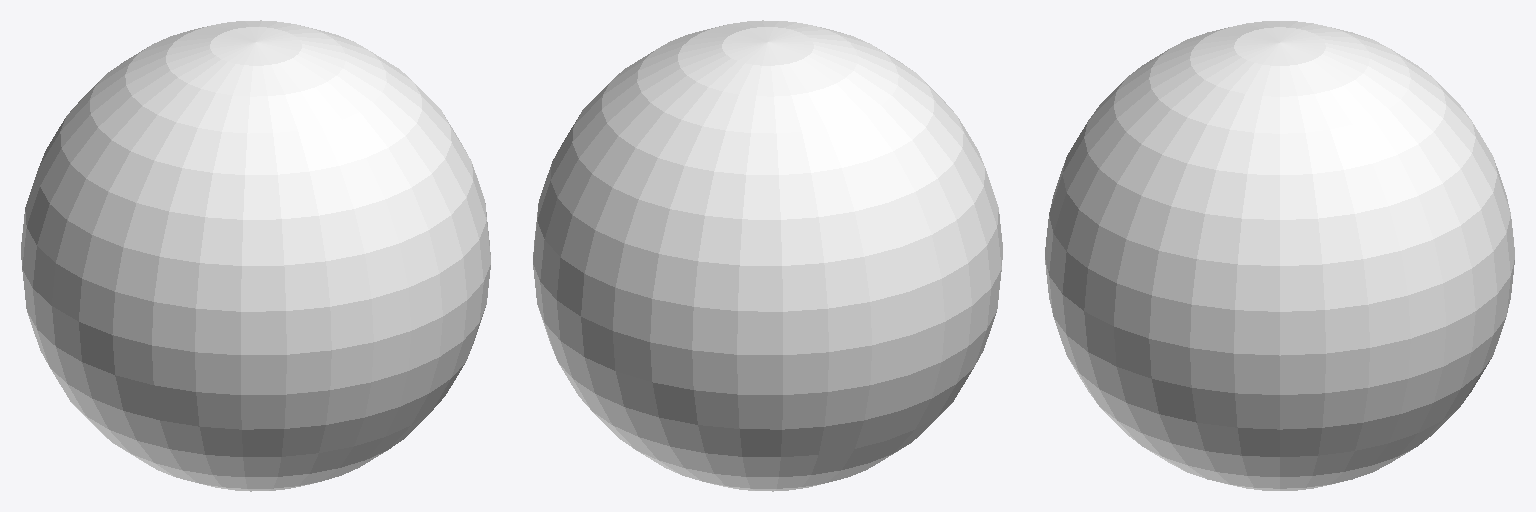
robot.urdf — panda:
<?xml version="1.0" ?>
<!-- =================================================================================== -->
<!-- |    This document was autogenerated by xacro from panda_arm_hand.urdf.xacro      | -->
<!-- |    EDITING THIS FILE BY HAND IS NOT RECOMMENDED                                 | -->
<!-- =================================================================================== -->
<robot name="panda" xmlns:xacro="http://www.ros.org/wiki/xacro">
  <link name="panda_link0">
  	<inertial>
      <origin rpy="0 0 0" xyz="0 0 0.05"/>
       <mass value="2.9"/>
       <inertia ixx="0.1" ixy="0" ixz="0" iyy="0.1" iyz="0" izz="0.1"/>
    </inertial>
    <visual>
      <geometry>
        <mesh filename="package://meshes/collision/link0.obj"/>
      </geometry>
      <material name="panda_white">
    		<color rgba="1. 1. 1. 1."/>
  		</material>
    </visual>
    <collision>
      <geometry>
        <mesh filename="package://meshes/collision/link0.obj"/>
      </geometry>
      <material name="panda_white"/>
    </collision>
  </link>
  <link name="panda_link1">
  	<inertial>
      <origin rpy="0 0 0" xyz="0 -0.04 -0.05"/>
       <mass value="2.7"/>
       <inertia ixx="0.1" ixy="0" ixz="0" iyy="0.1" iyz="0" izz="0.1"/>
    </inertial>
    <visual>
      <geometry>
        <mesh filename="package://meshes/visual/link1.obj"/>
      </geometry>
      <material name="panda_white"/>
    </visual>
    <collision>
      <geometry>
        <mesh filename="package://meshes/collision/link1.obj"/>
      </geometry>
      <material name="panda_white"/>
    </collision>
  </link>
  <joint name="panda_joint1" type="revolute">
    <safety_controller k_position="100.0" k_velocity="40.0" soft_lower_limit="-2.8973" soft_upper_limit="2.8973"/>
    <origin rpy="0 0 0" xyz="0 0 0.333"/>
    <parent link="panda_link0"/>
    <child link="panda_link1"/>
    <axis xyz="0 0 1"/>
    <limit effort="87" lower="-2.9671" upper="2.9671" velocity="2.1750"/>
  </joint>
  <link name="panda_link2">
  	<inertial>
      <origin rpy="0 0 0" xyz="0 -0.04 0.06"/>
       <mass value="2.73"/>
       <inertia ixx="0.1" ixy="0" ixz="0" iyy="0.1" iyz="0" izz="0.1"/>
    </inertial>
    <visual>
      <geometry>
        <mesh filename="package://meshes/visual/link2.obj"/>
      </geometry>
      <material name="panda_white"/>
    </visual>
    <collision>
      <geometry>
        <mesh filename="package://meshes/collision/link2.obj"/>
      </geometry>
      <material name="panda_white"/>
    </collision>
  </link>
  <joint name="panda_joint2" type="revolute">
    <safety_controller k_position="100.0" k_velocity="40.0" soft_lower_limit="-1.7628" soft_upper_limit="1.7628"/>
    <origin rpy="-1.57079632679 0 0" xyz="0 0 0"/>
    <parent link="panda_link1"/>
    <child link="panda_link2"/>
    <axis xyz="0 0 1"/>
    <limit effort="87" lower="-1.8326" upper="1.8326" velocity="2.1750"/>
  </joint>
  <link name="panda_link3">
	  <inertial>
      <origin rpy="0 0 0" xyz="0.01 0.01 -0.05"/>
       <mass value="2.04"/>
       <inertia ixx="0.1" ixy="0" ixz="0" iyy="0.1" iyz="0" izz="0.1"/>
    </inertial>
    <visual>
      <geometry>
        <mesh filename="package://meshes/visual/link3.obj"/>
      </geometry>
      <material name="panda_red">
    		<color rgba="1. 1. 1. 1."/>
  		</material>
    </visual>
    <collision>
      <geometry>
        <mesh filename="package://meshes/collision/link3.obj"/>
      </geometry>
    </collision>
  </link>
  <joint name="panda_joint3" type="revolute">
    <safety_controller k_position="100.0" k_velocity="40.0" soft_lower_limit="-2.8973" soft_upper_limit="2.8973"/>
    <origin rpy="1.57079632679 0 0" xyz="0 -0.316 0"/>
    <parent link="panda_link2"/>
    <child link="panda_link3"/>
    <axis xyz="0 0 1"/>
    <limit effort="87" lower="-2.9671" upper="2.9671" velocity="2.1750"/>
  </joint>
  <link name="panda_link4">
  	<inertial>
      <origin rpy="0 0 0" xyz="-0.03 0.03 0.02"/>
       <mass value="2.08"/>
       <inertia ixx="0.1" ixy="0" ixz="0" iyy="0.1" iyz="0" izz="0.1"/>
    </inertial>
    <visual>
      <geometry>
        <mesh filename="package://meshes/visual/link4.obj"/>
      </geometry>
      <material name="panda_white"/>
    </visual>
    <collision>
      <geometry>
        <mesh filename="package://meshes/collision/link4.obj"/>
      </geometry>
      <material name="panda_white"/>
    </collision>
  </link>
  <joint name="panda_joint4" type="revolute">
    <safety_controller k_position="100.0" k_velocity="40.0" soft_lower_limit="-3.0718" soft_upper_limit="-0.0698"/>
    <origin rpy="1.57079632679 0 0" xyz="0.0825 0 0"/>
    <parent link="panda_link3"/>
    <child link="panda_link4"/>
    <axis xyz="0 0 1"/>
    <limit effort="87" lower="-3.1416" upper="0.0" velocity="2.1750"/>
  </joint>
  <link name="panda_link5">
  	<inertial>
      <origin rpy="0 0 0" xyz="0 0.04 -0.12"/>
       <mass value="3"/>
       <inertia ixx="0.1" ixy="0" ixz="0" iyy="0.1" iyz="0" izz="0.1"/>
    </inertial>
    <visual>
      <geometry>
        <mesh filename="package://meshes/visual/link5.obj"/>
      </geometry>
      <material name="panda_white"/>
    </visual>
    <collision>
      <geometry>
        <mesh filename="package://meshes/collision/link5.obj"/>
      </geometry>
      <material name="panda_white"/>
    </collision>
  </link>
  <joint name="panda_joint5" type="revolute">
    <safety_controller k_position="100.0" k_velocity="40.0" soft_lower_limit="-2.8973" soft_upper_limit="2.8973"/>
    <origin rpy="-1.57079632679 0 0" xyz="-0.0825 0.384 0"/>
    <parent link="panda_link4"/>
    <child link="panda_link5"/>
    <axis xyz="0 0 1"/>
    <limit effort="12" lower="-2.9671" upper="2.9671" velocity="2.6100"/>
  </joint>
  <link name="panda_link6">
  	<inertial>
      <origin rpy="0 0 0" xyz="0.04 0 0"/>
       <mass value="1.3"/>
       <inertia ixx="0.1" ixy="0" ixz="0" iyy="0.1" iyz="0" izz="0.1"/>
    </inertial>
    <visual>
      <geometry>
        <mesh filename="package://meshes/visual/link6.obj"/>
      </geometry>
      <material name="panda_white"/>
    </visual>
    <collision>
      <geometry>
        <mesh filename="package://meshes/collision/link6.obj"/>
      </geometry>
      <material name="panda_white"/>
    </collision>
  </link>
  <joint name="panda_joint6" type="revolute">
    <safety_controller k_position="100.0" k_velocity="40.0" soft_lower_limit="-0.0175" soft_upper_limit="3.7525"/>
    <origin rpy="1.57079632679 0 0" xyz="0 0 0"/>
    <parent link="panda_link5"/>
    <child link="panda_link6"/>
    <axis xyz="0 0 1"/>
    <limit effort="12" lower="-0.0873" upper="3.8223" velocity="2.6100"/>
  </joint>
  <link name="panda_link7">
  	<inertial>
      <origin rpy="0 0 0" xyz="0 0 0.08"/>
       <mass value=".2"/>
       <inertia ixx="0.1" ixy="0" ixz="0" iyy="0.1" iyz="0" izz="0.1"/>
    </inertial>
    <visual>
      <geometry>
        <mesh filename="package://meshes/collision/link7.obj"/>
      </geometry>
      <material name="panda_white"/>
    </visual>
    <collision>
      <geometry>
        <mesh filename="package://meshes/collision/link7.obj"/>
      </geometry>
      <material name="panda_white"/>
    </collision>
  </link>
  <joint name="panda_joint7" type="revolute">
    <safety_controller k_position="100.0" k_velocity="40.0" soft_lower_limit="-2.8973" soft_upper_limit="2.8973"/>
    <origin rpy="1.57079632679 0 0" xyz="0.088 0 0"/>
    <parent link="panda_link6"/>
    <child link="panda_link7"/>
    <axis xyz="0 0 1"/>
    <limit effort="12" lower="-2.9671" upper="2.9671" velocity="2.6100"/>
  </joint>
  <link name="panda_link8">
  	 <inertial>
      <origin rpy="0 0 0" xyz="0 0 0"/>
       <mass value="0.0"/>
       <inertia ixx="0.1" ixy="0" ixz="0" iyy="0.1" iyz="0" izz="0.1"/>
    </inertial>
  </link>
  <joint name="panda_joint8" type="fixed">
    <origin rpy="0 0 0" xyz="0 0 0.107"/>
    <parent link="panda_link7"/>
    <child link="panda_link8"/>
    <axis xyz="0 0 0"/>
  </joint>


  <!-- Dummy EE for planning -->
  <link name="dummy_ee">
    <inertial>
      <!-- <origin xyz="0 0 -0.785" rpy="0.08 0 0.11"/> -->
      <origin rpy="0 0 0" xyz="0 0 0"/>
      <mass value="0.0"/>
      <inertia
        ixx="1.0" ixy="0.0" ixz="0.0"
        iyy="1.0" iyz="0.0" 
        izz="1.0"/>
    </inertial>
    <visual>
      <geometry>
        <sphere radius="0.01"/>
      </geometry>
      <!-- <origin rpy="0 0 -0.785" xyz="0.08 0 0.11"/> -->
      <origin rpy="0 0 0" xyz="0 0 0"/>
      <material name="panda_white" />
    </visual>
  </link>
  <joint name="dummy_ee_joint" type="fixed">
    <parent link="panda_link8"/>
    <child link="dummy_ee"/>
    <origin xyz="0.0 0 0.13" rpy="0 0 0"/>
  </joint>



<!--   <link name="end_effector">
    <visual>
      <geometry>
        <sphere radius="0.05"/>
      </geometry>
      <origin rpy="1.57 0 0" xyz="0 0 0.03"/>
      <material name="red"/>
    </visual>
    <collision>
      <geometry>
        <sphere radius="0.05"/>
      </geometry>
      <origin rpy="0 0 0" xyz="0 0 0.03"/>
    </collision>
    <inertial>
      <origin rpy="0 0 0" xyz="0 0 0.03"/>
      <mass value="0.5"/>
      <inertia ixx="0.1" ixy="0" ixz="0" iyy="0.1" iyz="0" izz="0.1"/>   
    </inertial>
  </link>
  <joint name="panda_joint9" type="fixed">
    <origin rpy="0 0 0" xyz="0 0 0"/>
    <parent link="panda_link8"/>
    <child link="end_effector"/>
    <axis xyz="0 0 0"/>
  </joint> -->


  <!-- Base Housing -->
<!--   <link name="gripper_housing">
    <inertial> -->
      <!-- <origin xyz="0 0 -0.785" rpy="0.08 0 0.11"/> -->
     <!--  <origin rpy="0 0 0" xyz="0 0 0"/>
      <mass value="0.8"/>
      <inertia
        ixx="1.0" ixy="0.0" ixz="0.0"
        iyy="1.0" iyz="0.0" 
        izz="1.0"/>
    </inertial>
    <visual>
      <geometry>
        <mesh filename="package://meshes/visual/HOUSING.stl" />
      </geometry>
      --> <!-- <origin rpy="0 0 -0.785" xyz="0.08 0 0.11"/> -->
<!--       <origin rpy="0 0 0" xyz="0 0 0"/>
      <material name="panda_white" />
    </visual>
  </link>
  <joint name="gripper_arm_joint" type="fixed">
    <parent link="panda_link8"/>
    <child link="gripper_housing"/>
    <origin xyz="0.06 0 0.08" rpy="-2.35619 -1.5708 -0.785398"/>
  </joint> -->


  <!-- Base Housing -->
  <link name="gripper_housing">
    <inertial>
      <!-- <origin xyz="0 0 -0.785" rpy="0.08 0 0.11"/> -->
      <origin rpy="0 0 0" xyz="0 0 0"/>
      <mass value="0.8"/>
      <inertia
        ixx="1.0" ixy="0.0" ixz="0.0"
        iyy="1.0" iyz="0.0" 
        izz="1.0"/>
    </inertial>
    <visual>
      <geometry>
        <mesh filename="package://meshes/visual/HOUSING.stl" />
      </geometry>
      <!-- <origin rpy="0 0 -0.785" xyz="0.08 0 0.11"/> -->
      <origin rpy="0 0 0" xyz="0 0 0"/>
      <material name="panda_white" />
    </visual>
    <collision>
      <geometry>
        <mesh filename="package://meshes/visual/HOUSING.stl"/>
      </geometry>
      <material name="panda_white"/>
    </collision>
  </link>
  <joint name="gripper_arm_joint" type="fixed">
    <parent link="panda_link8"/>
    <child link="gripper_housing"/>
    <origin xyz="0.0 0 0.07" rpy="0 0 -0.785398"/>
  </joint>

    <!-- Cutting Finger -->
  <link name="cutting_finger">
    <inertial>
      <origin xyz="0.0 0.0 0.0" rpy="0.0 0.0 0.0"/>
      <mass value="0.008"/>
      <inertia 
        ixx="1.0" ixy="0.0" ixz="0.0" 
        iyy="1.0" iyz="0.0" 
        izz="1.0"/>
    </inertial>
    <visual>
      <origin xyz="0.0 0.0 0.0" rpy="0.0 0.0 0.0"/>
      <geometry>
        <mesh filename="package://meshes/visual/CUTTING_FINGER.stl" />
      </geometry>
      <material name="panda_white" />
    </visual>
    <collision>
      <geometry>
        <mesh filename="package://meshes/visual/CUTTING_FINGER.stl"/>
      </geometry>
      <material name="panda_white"/>
    </collision>
  </link>

  <joint name="cutting_finger_joint" type="fixed">
    <parent link="gripper_housing"/>
    <child link="cutting_finger"/>
    <origin xyz="-0.02 -0.035 0.01" rpy="0 0.872665 1.0472"/>
<!--     <axis xyz="0 1 0"/>
    <limit lower="-0.87" upper="0" effort="100" velocity="1"/> -->
  </joint>

  <!-- Inner Finger 1 -->
  <link name="inner_finger_1">
    <inertial>
      <origin xyz="0.0 0.0 0.0" rpy="0.0 0.0 0.0"/>
      <mass value="0.005"/>
      <inertia 
        ixx="1.0" ixy="0.0" ixz="0.0" 
        iyy="1.0" iyz="0.0" 
        izz="1.0"/>
    </inertial>
    <visual>
      <origin xyz="0.0 0.0 0.0" rpy="0.0 0.0 0.0"/>
      <geometry>
        <mesh filename="package://meshes/visual/INNER_FINGER.stl" />
      </geometry>
      <material name="panda_white" />
    </visual>
    <collision>
      <geometry>
        <mesh filename="package://meshes/visual/INNER_FINGER.stl"/>
      </geometry>
      <material name="panda_white"/>
    </collision>
  </link>

  <joint name="inner_finger_1_joint" type="fixed">
    <parent link="gripper_housing"/>
    <child link="inner_finger_1"/>
    <origin xyz="0.04 0 0.01" rpy="0 0.872665 3.14159"/>
<!--     <axis xyz="0 1 0"/>
    <limit lower="-0.87" upper="0" effort="100" velocity="1"/>
    <mimic joint="cutting_finger_joint" multiplier="1" offset="0" /> -->
  </joint>

  <!-- Inner Finger 2 -->
  <link name="inner_finger_2">
    <inertial>
      <origin xyz="0.0 0.0 0.0" rpy="0.0 0.0 0.0"/>
      <mass value="0.005"/>
      <inertia 
        ixx="1.0" ixy="0.0" ixz="0.0" 
        iyy="1.0" iyz="0.0" 
        izz="1.0"/>
    </inertial>
    <visual>
      <origin xyz="0.0 0.0 0.0" rpy="0.0 0.0 0.0"/>
      <geometry>
        <mesh filename="package://meshes/visual/MIRRORINNER_FINGER.stl" />
      </geometry>
      <material name="panda_white" />
    </visual>
    <collision>
      <geometry>
        <mesh filename="package://meshes/visual/MIRRORINNER_FINGER.stl"/>
      </geometry>
      <material name="panda_white"/>
    </collision>
  </link>
  
  <joint name="inner_finger_2_joint" type="fixed">
    <parent link="gripper_housing"/>
    <child link="inner_finger_2"/>
    <origin xyz="-0.02 0.035 0.01" rpy="0 0.872665 -1.0472"/>
<!--     <axis xyz="0 1 0"/>
    <limit lower="-0.87" upper="0" effort="100" velocity="1"/>
    <mimic joint="cutting_finger_joint" multiplier="1" offset="0" /> -->
  </joint>

  <!-- Outer Finger 1 -->
  <link name="outer_finger_1">
    <inertial>
      <origin xyz="0.0 0.0 0.0" rpy="0.0 0.0 0.0"/>
      <mass value="0.006"/>
      <inertia 
        ixx="1.0" ixy="0.0" ixz="0.0" 
        iyy="1.0" iyz="0.0" 
        izz="1.0"/>
    </inertial>
    <visual>
      <origin xyz="0.0 0.0 0.0" rpy="0.0 0.0 0.0"/>
      <geometry>
        <mesh filename="package://meshes/visual/OUTER_FINGER.stl" />
      </geometry>
      <material name="panda_white" />
    </visual>
    <collision>
      <geometry>
        <mesh filename="package://meshes/visual/OUTER_FINGER.stl"/>
      </geometry>
      <material name="panda_white"/>
    </collision>
  </link>

  <joint name="outer_finger_1_joint" type="fixed">
    <parent link="gripper_housing"/>
    <child link="outer_finger_1"/>
    <origin xyz="-0.04 0 0.01" rpy="0 0.785398 0"/>
<!--     <axis xyz="0 1 0"/>
    <limit lower="-0.79" upper="0" effort="100" velocity="1"/>
    <mimic joint="cutting_finger_joint" multiplier="1" offset="0" />    -->         
  </joint>

  <!-- Outer Finger 2 -->
  <link name="outer_finger_2">
    <inertial>
      <origin xyz="0.0 0.0 0.0" rpy="0.0 0.0 0.0"/>
      <mass value="0.006"/>
      <inertia 
        ixx="1.0" ixy="0.0" ixz="0.0" 
        iyy="1.0" iyz="0.0" 
        izz="1.0"/>
    </inertial>
    <visual>
      <origin xyz="0.0 0.0 0.0" rpy="0.0 0.0 0.0"/>
      <geometry>
        <mesh filename="package://meshes/visual/OUTER_FINGER.stl" />
      </geometry> 
      <material name="panda_white" />
    </visual>
    <collision>
      <geometry>
        <mesh filename="package://meshes/visual/OUTER_FINGER.stl"/>
      </geometry>
      <material name="panda_white"/>
    </collision>
  </link>

  <joint name="outer_finger_2_joint" type="fixed">
    <parent link="gripper_housing"/>
    <child link="outer_finger_2"/>
    <origin xyz="0.02 0.035 0.01" rpy="0 0.785398 -2.0944"/>
<!--     <axis xyz="0 1 0"/>
    <limit lower="-0.79" upper="0" effort="100" velocity="1"/>
    <mimic joint="cutting_finger_joint" multiplier="1" offset="0" /> -->
  </joint>

  <!-- Outer Finger 3 -->
  <link name="outer_finger_3">
    <inertial>
      <origin xyz="0.0 0.0 0.0" rpy="0.0 0.0 0.0"/>
      <mass value="0.006"/>
      <inertia 
        ixx="1.0" ixy="0.0" ixz="0.0" 
        iyy="1.0" iyz="0.0" 
        izz="1.0"/>
    </inertial>
    <visual>
      <origin xyz="0.0 0.0 0.0" rpy="0.0 0.0 0.0"/>
      <geometry>
        <mesh filename="package://meshes/visual/OUTER_FINGER.stl" />
      </geometry>
      <material name="panda_white" />
    </visual>
    <collision>
      <geometry>
        <mesh filename="package://meshes/visual/OUTER_FINGER.stl"/>
      </geometry>
      <material name="panda_white"/>
    </collision>
  </link>

  <joint name="outer_finger_3_joint" type="fixed">
    <parent link="gripper_housing"/>
    <child link="outer_finger_3"/>
    <origin xyz="0.02 -0.035 0.01" rpy="0 0.785398 2.0944"/>
<!--     <axis xyz="0 1 0"/>
    <limit lower="-0.79" upper="0" effort="100" velocity="1"/>
    <mimic joint="cutting_finger_joint" multiplier="1" offset="0" /> -->
  </joint>

<!-- Cutting Blade Right -->
  <link name="cutter_right">
    <inertial>
      <origin xyz="0.0 0.0 0.0" rpy="0.0 0.0 0.0"/>
      <mass value="0.006"/>
      <inertia 
        ixx="1.0" ixy="0.0" ixz="0.0" 
        iyy="1.0" iyz="0.0" 
        izz="1.0"/>
    </inertial>
    <visual>
      <origin xyz="0.0 0.0 0.0" rpy="0.0 0.0 0.0"/>
      <geometry>
        <mesh filename="package://meshes/visual/CUTTER_R.stl" />
      </geometry>
      <material name="panda_white" />
    </visual>
    <collision>
      <geometry>
        <mesh filename="package://meshes/visual/CUTTER_R.stl"/>
      </geometry>
      <material name="panda_white"/>
    </collision>
  </link>

  <joint name="right_cutter_joint" type="fixed">
    <parent link="cutting_finger"/>
    <child link="cutter_right"/>
    <origin xyz="0.004 -0.006 0.035" rpy="0 1.8326 0"/>
<!--     <axis xyz="0 0 1"/>
    <limit lower="-2.09" upper="0" effort="1000" velocity="0.7"/>
    <dynamics damping="0.02" friction="0.0" /> -->
  </joint>

<!-- Cutting Blade Left -->
<link name="cutter_left">
    <inertial>
      <origin xyz="0.0 0.0 0.0" rpy="0.0 0.0 0.0"/>
      <mass value="0.007"/>
      <inertia 
        ixx="1.0" ixy="0.0" ixz="0.0" 
        iyy="1.0" iyz="0.0" 
        izz="1.0"/>
    </inertial>
    <visual>
      <origin xyz="0.0 0.0 0.0" rpy="0.0 0.0 0.0"/>
      <geometry>
        <mesh filename="package://meshes/visual/CUTTER_L.stl" />
      </geometry>
      <material name="panda_white" />
    </visual>
    <collision>
      <geometry>
        <mesh filename="package://meshes/visual/CUTTER_L.stl"/>
      </geometry>
      <material name="panda_white"/>
    </collision>
  </link>

  <joint name="left_cutter_joint" type="fixed">
    <parent link="cutting_finger"/>
    <child link="cutter_left"/>
    <origin xyz="0.004 0.007 0.035" rpy="0 1.8326 0"/>
<!--     <axis xyz="0 0 1"/>
    <limit lower="0" upper="2.09" effort="100" velocity="0.7"/>
    <mimic joint="right_cutter_joint" multiplier="-1" offset="0" />
    <dynamics damping="0.02" friction="0.0" /> -->
  </joint>

<!-- Punnet Clamp -->
  <link name="punnet_clamp">
    <inertial>
      <origin xyz="0.0 0.0 0.0" rpy="0.0 0.0 0.0"/>
      <mass value="0.003"/>
      <inertia 
        ixx="1.0" ixy="0.0" ixz="0.0" 
        iyy="1.0" iyz="0.0" 
        izz="1.0"/>
    </inertial>
    <visual>
      <origin xyz="0.0 0.0 0.0" rpy="0.0 0.0 0.0"/>
      <geometry>
        <mesh filename="package://meshes/visual/BASKET_CLAMP.stl" />
      </geometry>
      <material name="panda_white" />
    </visual>
    <collision>
      <geometry>
        <mesh filename="package://meshes/visual/BASKET_CLAMP.stl"/>
      </geometry>
      <material name="panda_white"/>
    </collision>
  </link>

  <joint name="punnet_clamp_joint" type="fixed">
    <parent link="gripper_housing"/>
    <child link="punnet_clamp"/>
    <origin xyz="-0.023 0.003 -0.025" rpy="0 0 0"/>
<!--     <axis xyz="0 1 0"/>
    <limit lower="-1.57" upper="0" effort="100" velocity="1"/> -->
  </joint>

</robot> 

--- Render facts (derived) ---
The picture shows the robot from 3 angles, left to right: view 1: azimuth 30°, elevation 25°; view 2: azimuth 150°, elevation 25°; view 3: azimuth 270°, elevation 25°; orthographic projection.
Model panda with 20 links and 19 joints (7 revolute, 12 fixed), rooted at panda_link0, posed all joints at 0.
Visible links, largest first — view 1: dummy_ee; view 2: dummy_ee; view 3: dummy_ee.
Boxes of the visible links, box(x1,y1,x2,y2) form: dummy_ee: box(21, 20, 490, 491); dummy_ee: box(533, 20, 1002, 491); dummy_ee: box(1045, 21, 1514, 490).
Size in the robot's own frame: 0.02 by 0.02 by 0.02 metres.
Meshes: 16 distinct files referenced, 0 mesh visuals loaded (none loaded); not drawn: 18 (reference not matched to a file when rendering).